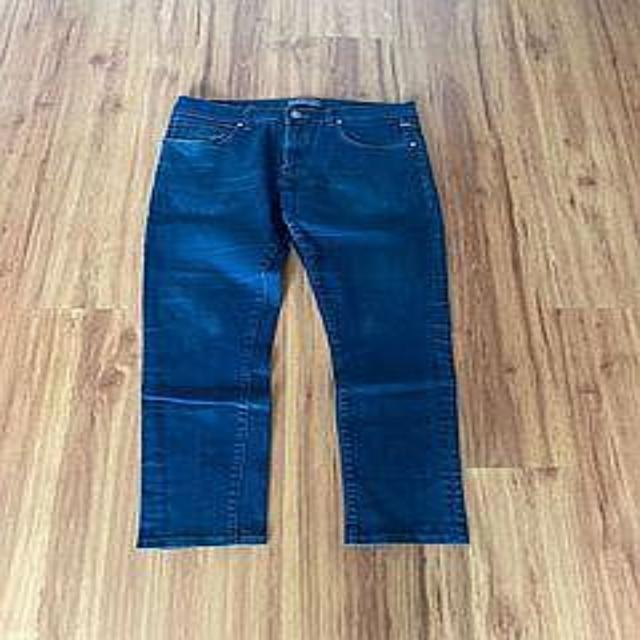TROUSER: (121, 80, 491, 554)
